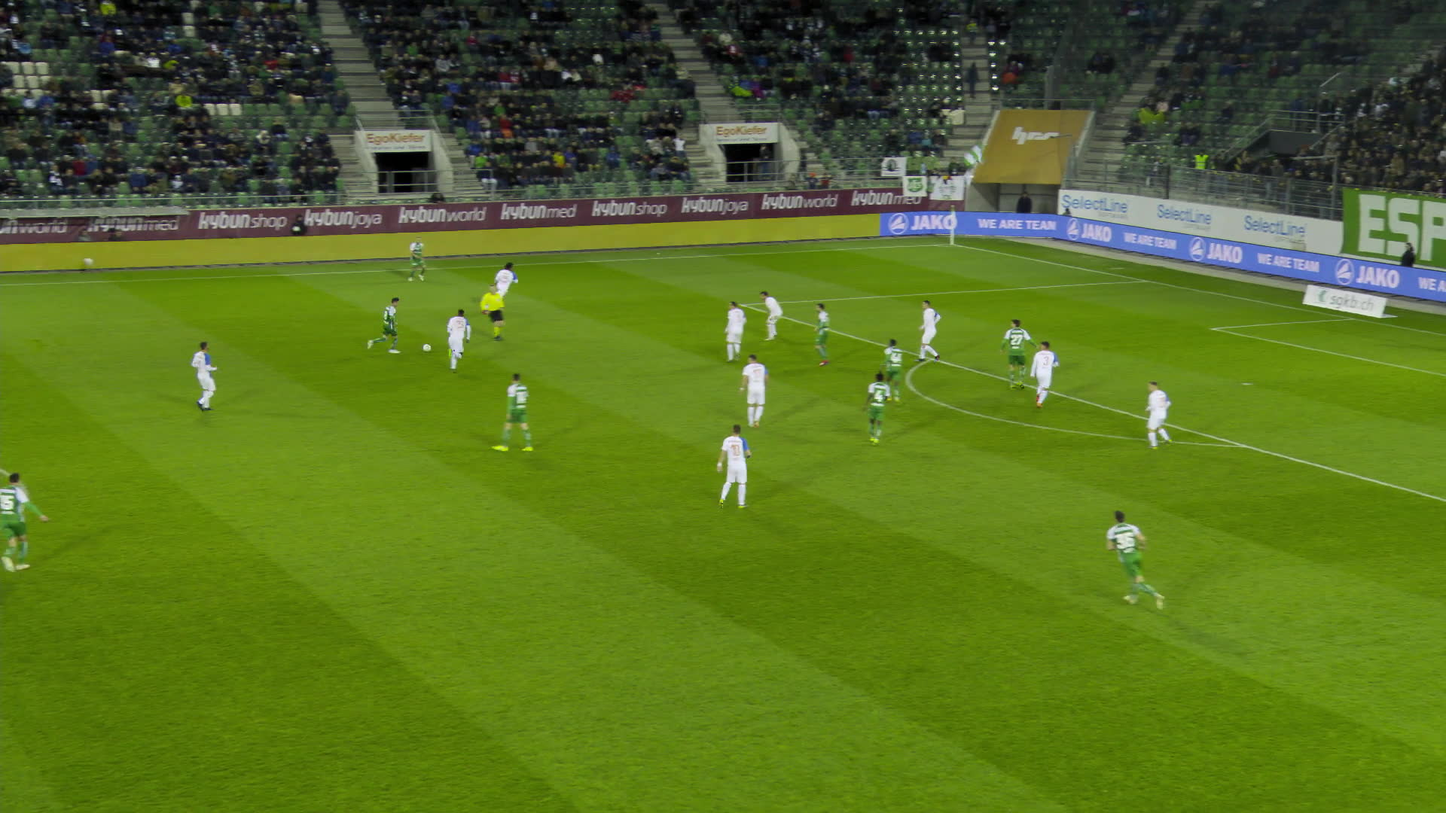ball: (423, 343, 431, 351)
player: (1113, 511, 1170, 614), (0, 471, 53, 575), (715, 425, 758, 509), (1004, 318, 1039, 389), (508, 372, 538, 451), (191, 340, 224, 411), (745, 355, 775, 429), (368, 297, 404, 356), (868, 370, 895, 445), (488, 263, 526, 313), (1149, 379, 1176, 449), (1036, 342, 1064, 407), (444, 309, 475, 367), (888, 341, 914, 404), (731, 300, 752, 362), (921, 301, 941, 364), (764, 290, 789, 340), (817, 303, 837, 365), (413, 236, 430, 281)
referee: (486, 282, 516, 342)
